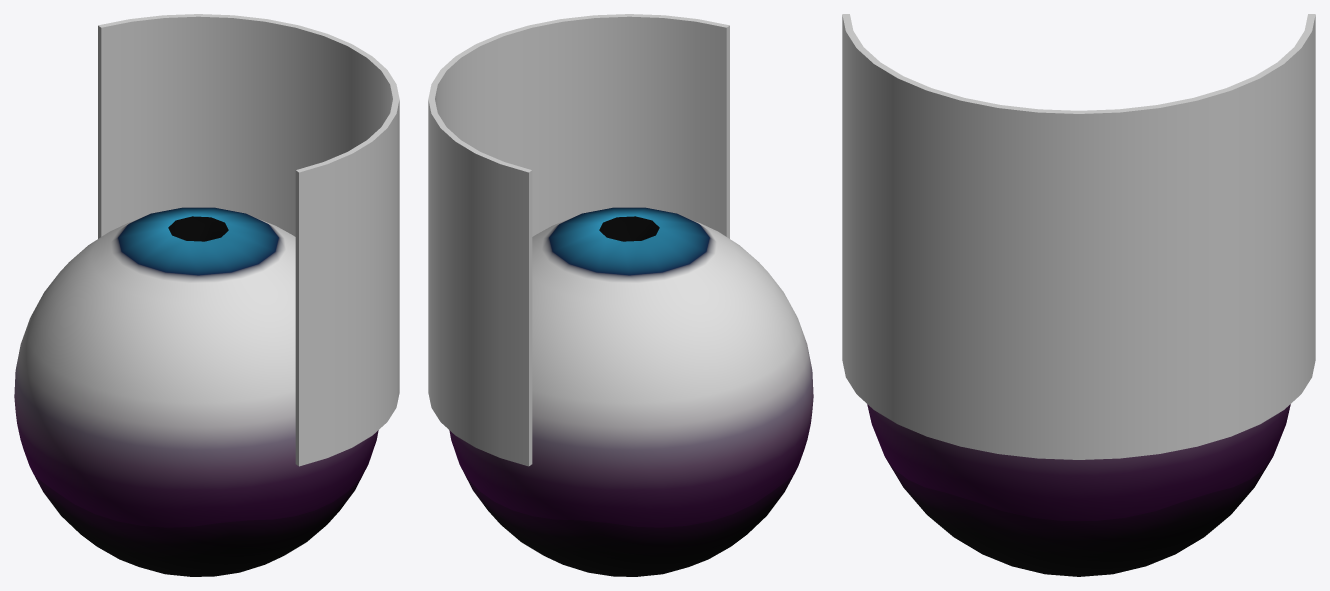
The model's file is SM_MichiEye.fbx.
The picture shows the model from 3 angles, left to right: view 1: azimuth 30°, elevation 25°; view 2: azimuth 150°, elevation 25°; view 3: azimuth 270°, elevation 25°; orthographic projection. The views are drawn at different scales.
Parts seen in each view (by area): view 1: Eye, Eyelid; view 2: Eye, Eyelid; view 3: Eyelid, Eye.
Part boxes in pixels (x1,y1,x2,y2): Eye: [14, 207, 378, 576]; Eyelid: [98, 14, 399, 466]; Eye: [449, 207, 813, 576]; Eyelid: [428, 14, 729, 466]; Eyelid: [842, 14, 1315, 459]; Eye: [867, 404, 1290, 576].
Bounding box in the file's own units: 119 × 157 × 124.
